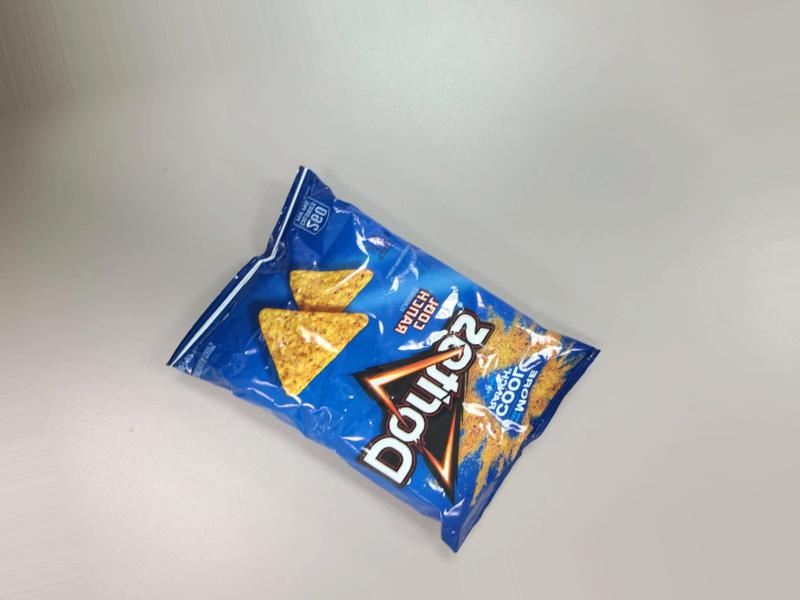doritos: (232, 220, 568, 600)
